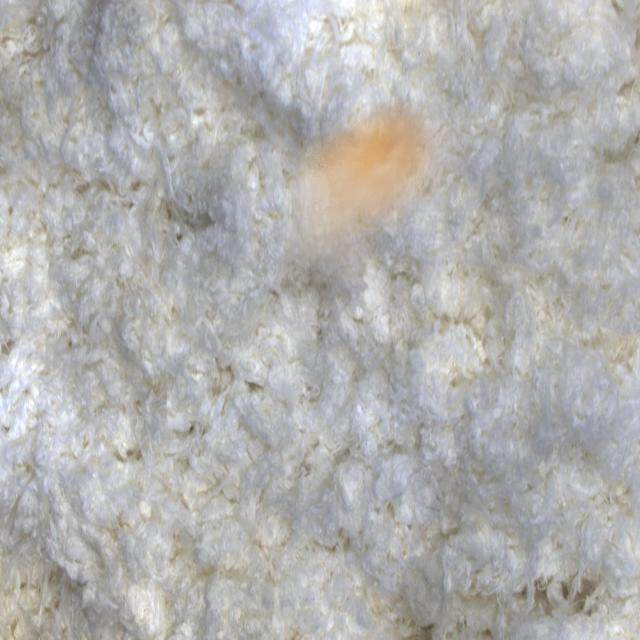dust: (275, 94, 468, 327)
